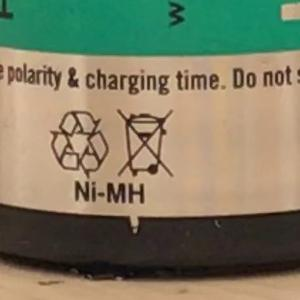NI-MH: (65, 173, 154, 212)
